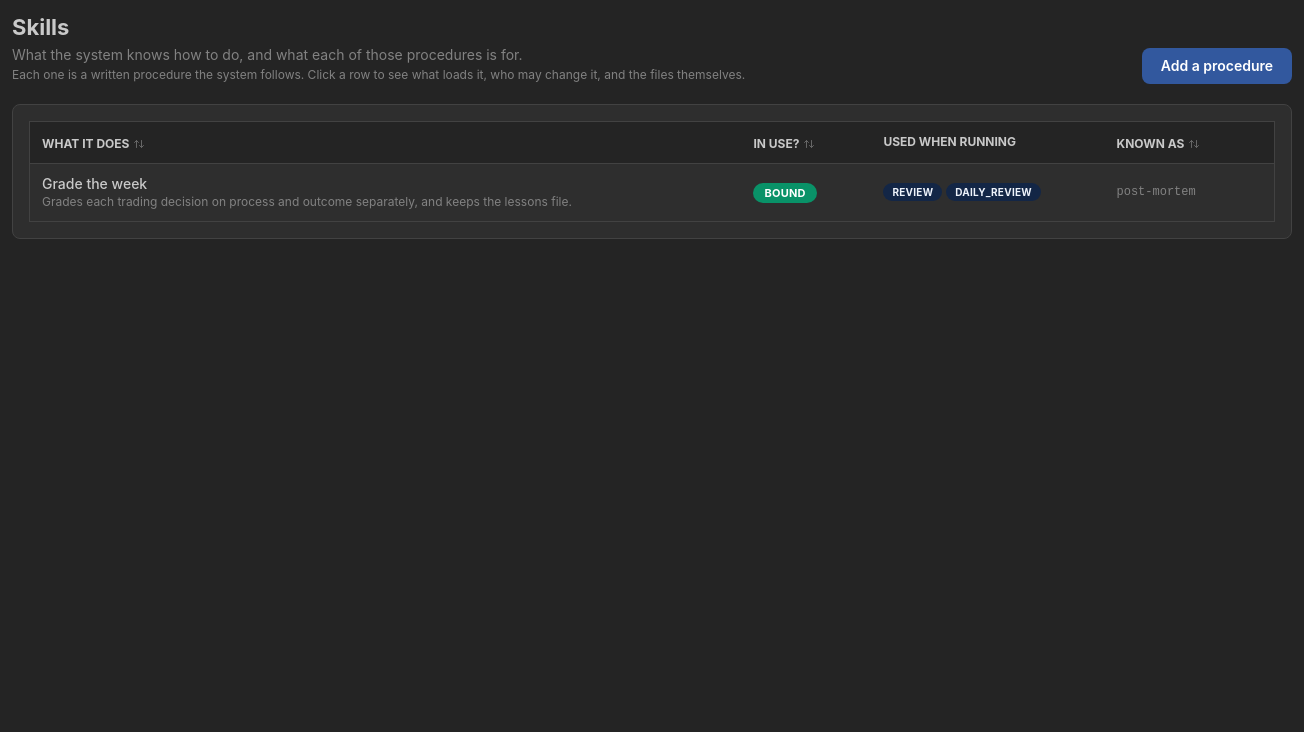
SkillsPage checks run as jobs › shows a job that died as failed, with its error
This screenshot has width=1304, height=732.
Click the text "Grade the week" at (95, 183), box [42,175,147,192]
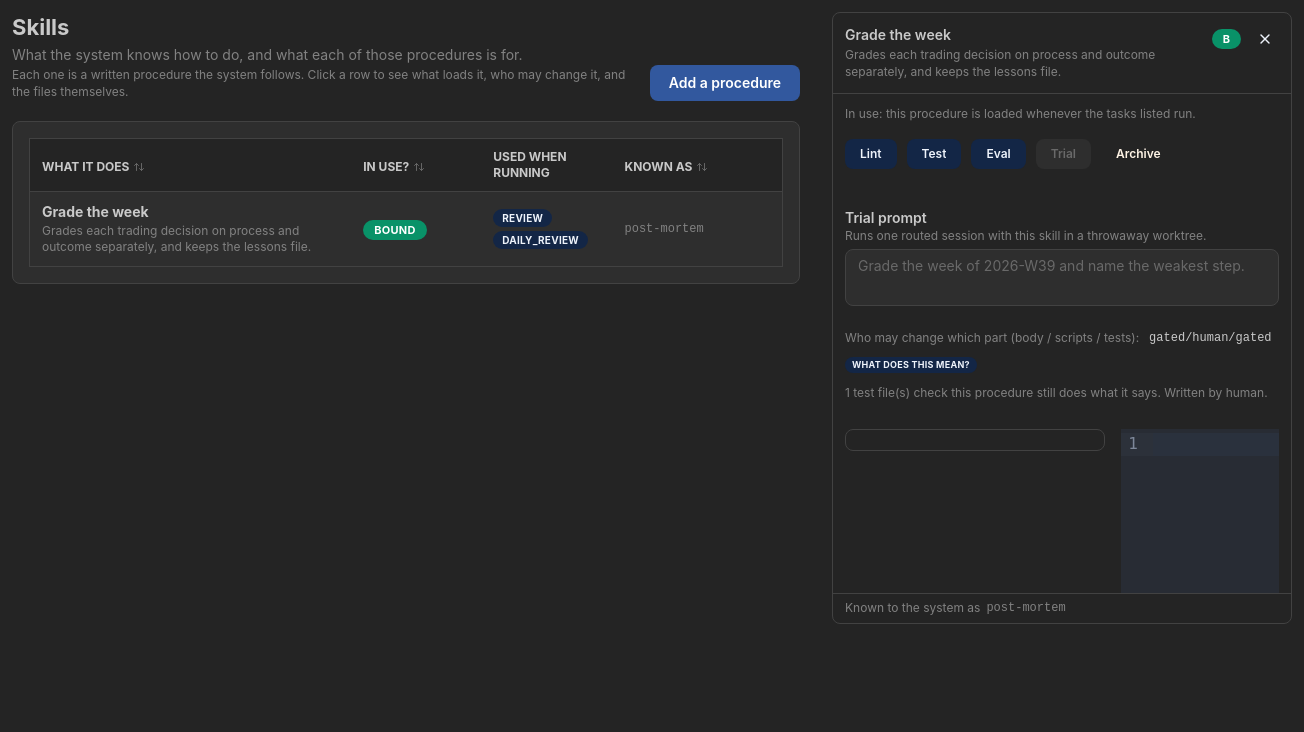
Click the button "Test" at (934, 154), box [906,139,961,169]
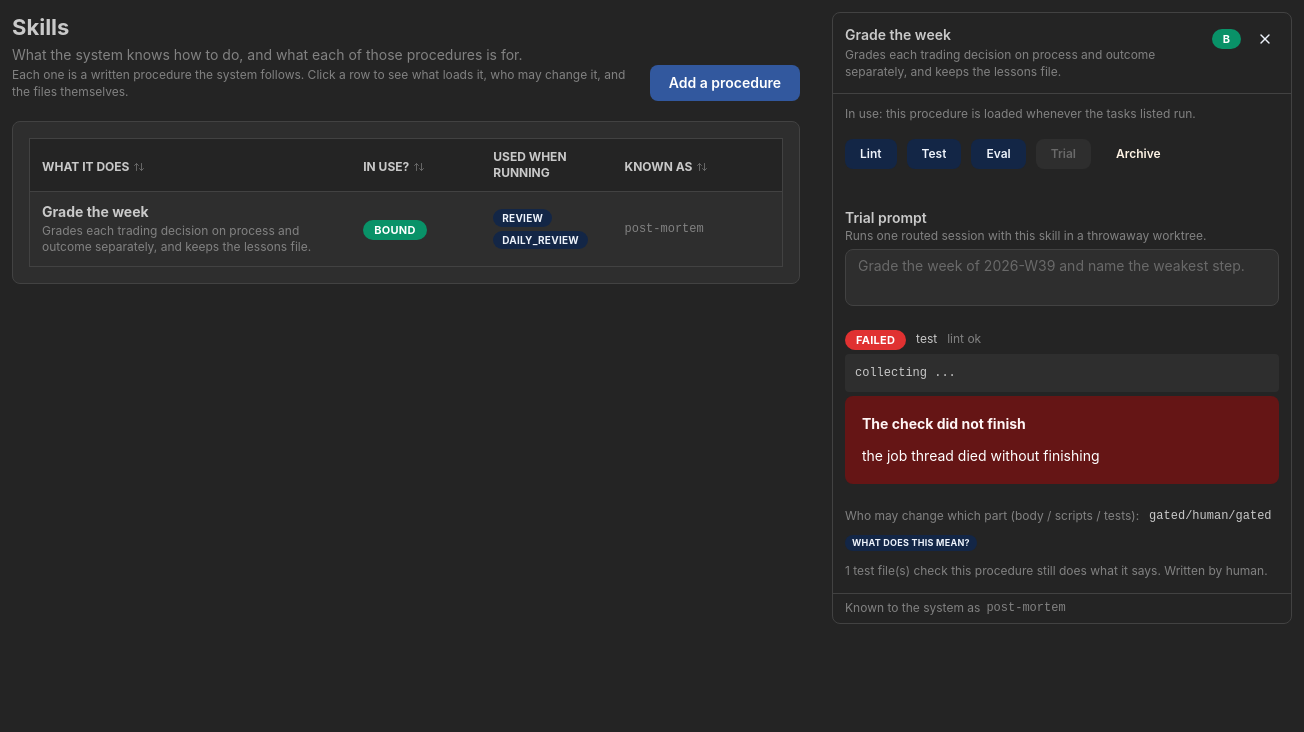
Expected: the text "the job thread died without finishing" is shown, [862,447,1100,464]
Expected: the element with test id "check-progress" shows "failed", [856,333,895,347]
